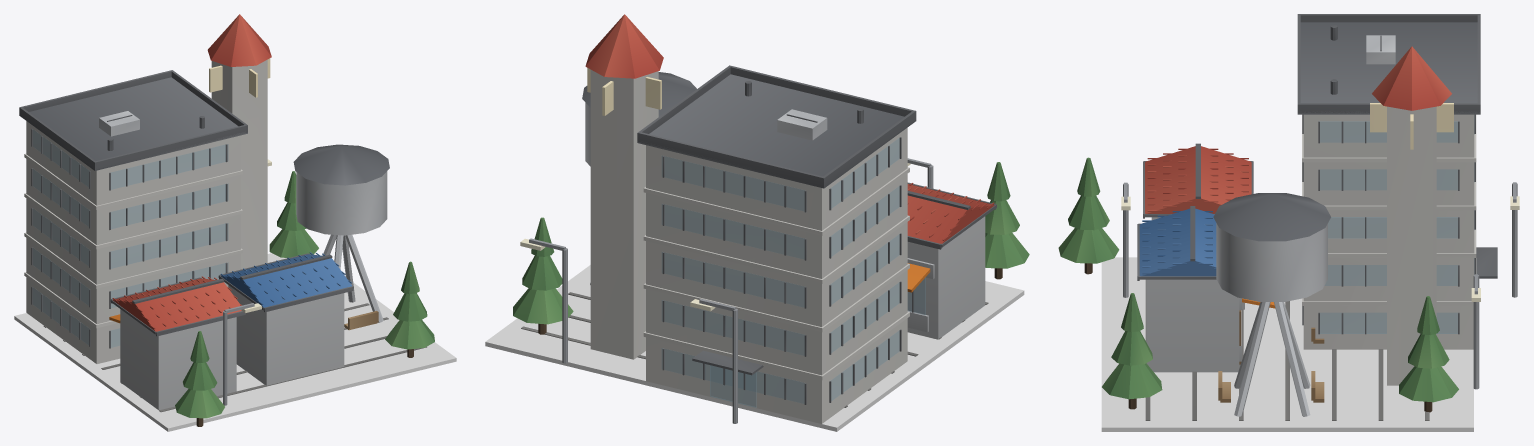
Rendered from Civic_P3.fbx.
The picture shows the model from 3 angles, left to right: view 1: azimuth 30°, elevation 25°; view 2: azimuth 150°, elevation 25°; view 3: azimuth 270°, elevation 25°; orthographic projection. The views are drawn at different scales.
Parts seen in each view (by area): view 1: Civic.Hall, Civic.Shop1, Civic.Shop0, Civic.Plaza, Civic.WaterTower, Civic.Tower, Civic.Tree2, Civic.Tree1, Civic.Tree0, Civic.Paving, Civic.Lamp0, Civic.Benches; view 2: Civic.Hall, Civic.Tower, Civic.Plaza, Civic.Shop0, Civic.Tree0, Civic.Tree2, Civic.WaterTower, Civic.Lamp1, Civic.Lamp2; view 3: Civic.Hall, Civic.Plaza, Civic.Tower, Civic.WaterTower, Civic.Shop1, Civic.Shop0, Civic.Tree2, Civic.Tree0, Civic.Tree1, Civic.Paving, Civic.Lamp1, Civic.Benches (+2 smaller).
Part boxes in pixels (<box>): Civic.Hall: <box>19,70,247,363</box>; Civic.Shop1: <box>218,252,353,385</box>; Civic.Shop0: <box>109,276,245,410</box>; Civic.Plaza: <box>14,253,456,431</box>; Civic.WaterTower: <box>293,144,389,322</box>; Civic.Tower: <box>207,14,271,269</box>; Civic.Tree2: <box>175,331,224,426</box>; Civic.Tree1: <box>385,261,434,357</box>; Civic.Tree0: <box>269,171,318,257</box>; Civic.Paving: <box>43,303,426,412</box>; Civic.Lamp0: <box>223,303,261,405</box>; Civic.Benches: <box>344,311,378,330</box>; Civic.Hall: <box>637,65,916,423</box>; Civic.Tower: <box>585,14,663,359</box>; Civic.Plaza: <box>485,265,1024,431</box>; Civic.Shop0: <box>907,182,996,339</box>; Civic.Tree0: <box>513,217,573,334</box>; Civic.Tree2: <box>985,162,1029,279</box>; Civic.WaterTower: <box>582,72,696,284</box>; Civic.Lamp1: <box>520,238,567,363</box>; Civic.Lamp2: <box>690,299,737,423</box>; Civic.Hall: <box>1297,14,1497,349</box>; Civic.Plaza: <box>1101,257,1473,431</box>; Civic.Tower: <box>1370,46,1453,385</box>; Civic.WaterTower: <box>1213,193,1330,416</box>; Civic.Shop1: <box>1137,206,1275,372</box>; Civic.Shop0: <box>1143,143,1253,309</box>; Civic.Tree2: <box>1058,157,1119,274</box>; Civic.Tree0: <box>1399,296,1458,412</box>; Civic.Tree1: <box>1102,293,1162,409</box>; Civic.Paving: <box>1145,280,1429,420</box>; Civic.Lamp1: <box>1471,274,1480,389</box>; Civic.Benches: <box>1218,327,1324,402</box>.
Size of the model in its own units: 2600 by 2371 by 2970.
